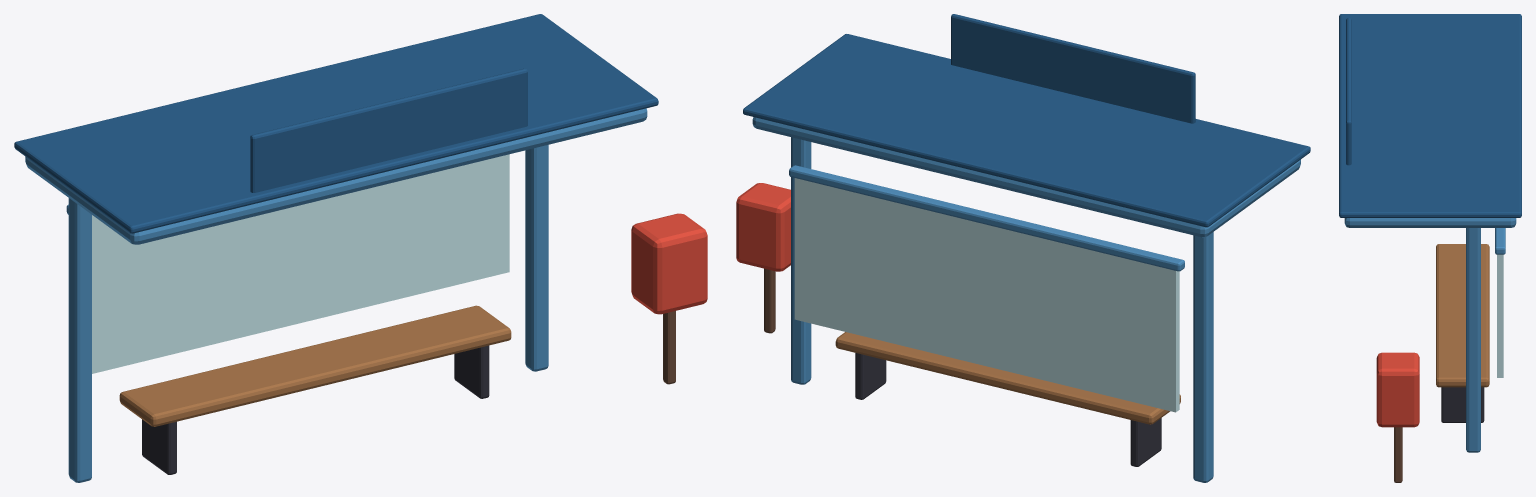
The model's file is tram-xe-buyt.glb.
The picture shows the model from 3 angles, left to right: view 1: azimuth 30°, elevation 25°; view 2: azimuth 150°, elevation 25°; view 3: azimuth 270°, elevation 25°; orthographic projection. The views are drawn at different scales.
Visible parts, largest first — view 1: tram-xe-buyt-4, tram-xe-buyt-3, tram-xe-buyt-9, tram-xe-buyt-6, tram-xe-buyt-2, tram-xe-buyt-10, tram-xe-buyt-0, tram-xe-buyt-1, tram-xe-buyt-7, tram-xe-buyt-8, tram-xe-buyt-11; view 2: tram-xe-buyt-4, tram-xe-buyt-3, tram-xe-buyt-9, tram-xe-buyt-6, tram-xe-buyt-2, tram-xe-buyt-5, tram-xe-buyt-0, tram-xe-buyt-10, tram-xe-buyt-1, tram-xe-buyt-7, tram-xe-buyt-8, tram-xe-buyt-11; view 3: tram-xe-buyt-3, tram-xe-buyt-6, tram-xe-buyt-1, tram-xe-buyt-10, tram-xe-buyt-2, tram-xe-buyt-8, tram-xe-buyt-9, tram-xe-buyt-4, tram-xe-buyt-11, tram-xe-buyt-5.
Part boxes in pixels (box(x1,y1,x2,y2)): tram-xe-buyt-4: box(92, 154, 509, 373); tram-xe-buyt-3: box(14, 14, 658, 233); tram-xe-buyt-9: box(250, 68, 527, 192); tram-xe-buyt-6: box(119, 305, 511, 426); tram-xe-buyt-2: box(25, 108, 647, 244); tram-xe-buyt-10: box(631, 213, 707, 314); tram-xe-buyt-0: box(68, 198, 91, 482); tram-xe-buyt-1: box(525, 145, 548, 371); tram-xe-buyt-7: box(142, 419, 176, 474); tram-xe-buyt-8: box(454, 345, 489, 398); tram-xe-buyt-11: box(663, 311, 675, 384); tram-xe-buyt-4: box(794, 178, 1179, 412); tram-xe-buyt-3: box(743, 34, 1310, 227); tram-xe-buyt-9: box(951, 14, 1195, 123); tram-xe-buyt-6: box(835, 332, 1180, 424); tram-xe-buyt-2: box(752, 117, 1300, 237); tram-xe-buyt-5: box(789, 165, 1184, 271); tram-xe-buyt-0: box(1193, 232, 1213, 482); tram-xe-buyt-10: box(736, 183, 790, 271); tram-xe-buyt-1: box(791, 137, 811, 384); tram-xe-buyt-7: box(1130, 418, 1161, 466); tram-xe-buyt-8: box(855, 353, 886, 399); tram-xe-buyt-11: box(764, 268, 775, 333); tram-xe-buyt-3: box(1339, 14, 1521, 217); tram-xe-buyt-6: box(1436, 244, 1489, 387); tram-xe-buyt-1: box(1466, 228, 1480, 452); tram-xe-buyt-10: box(1376, 352, 1419, 427); tram-xe-buyt-2: box(1344, 218, 1516, 227); tram-xe-buyt-8: box(1441, 387, 1484, 422); tram-xe-buyt-9: box(1346, 18, 1351, 165); tram-xe-buyt-4: box(1497, 254, 1503, 377); tram-xe-buyt-11: box(1394, 427, 1402, 482); tram-xe-buyt-5: box(1495, 228, 1505, 254).
Size of the model in its own units: 5.02 by 3.03 by 1.7.
